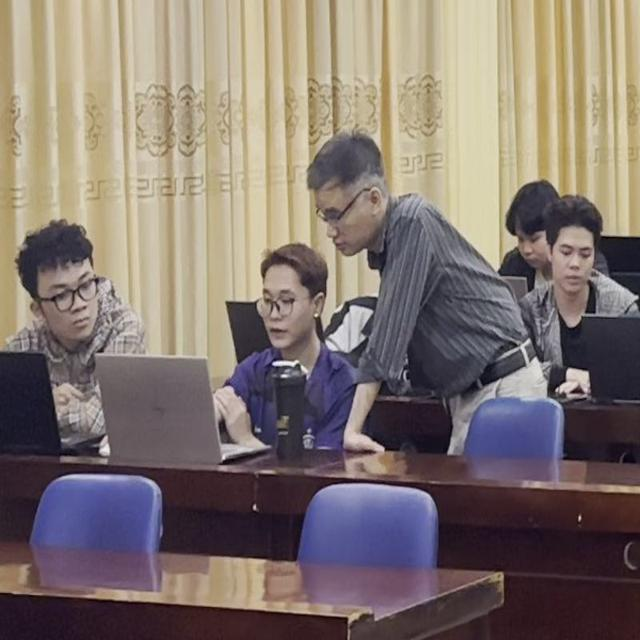Looking away: (11, 195, 113, 336), (300, 135, 390, 263), (549, 195, 601, 316), (251, 249, 314, 342), (502, 181, 558, 259)
